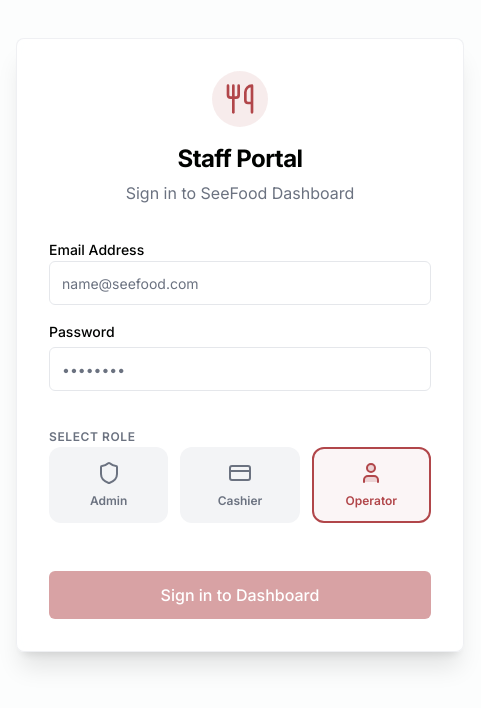
Scenario: LoginPage (staff) › displays an error message when server responds with a failure
The width and height of the screenshot is (481, 708).
Step 1. Click the text "Admin" → [109, 501], box [90,493,127,509]
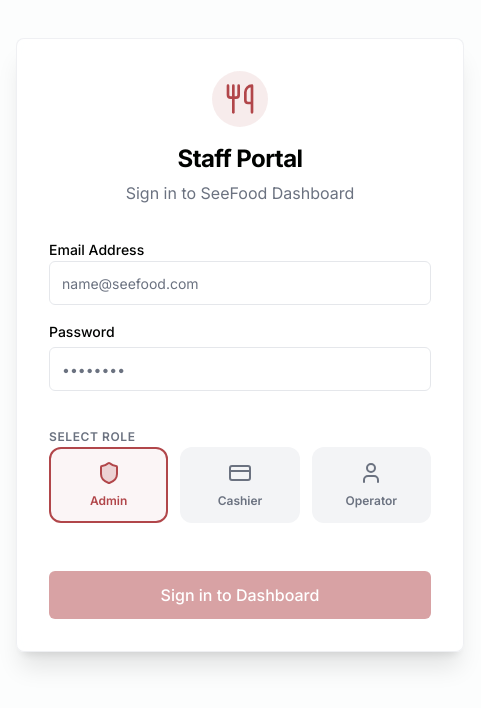
Step 2. Type "admin@example.com" into the field labelled "Email Address" → [240, 283], box [49,261,431,305]
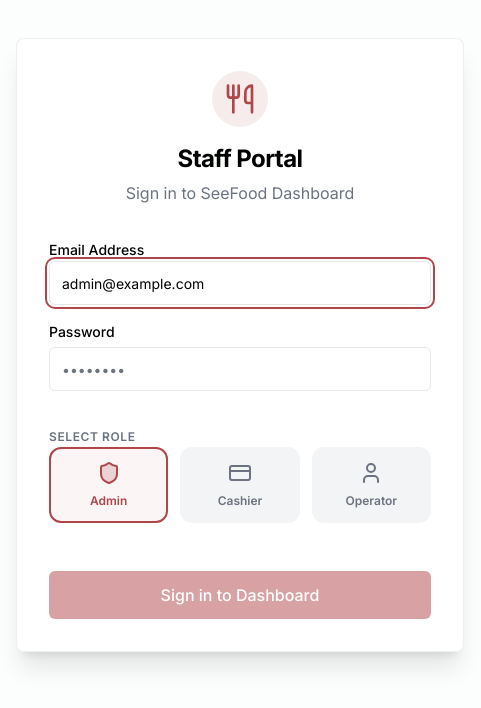
Step 3. Type "password" into the password field labelled "Password" → [240, 369], box [49,347,431,391]
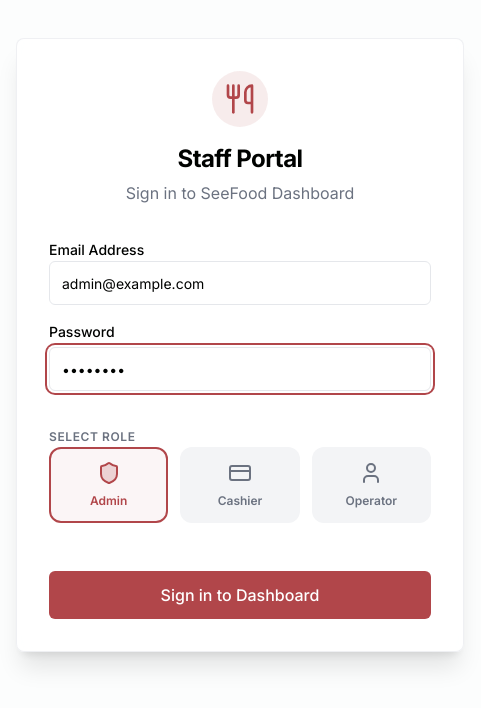
Step 4. Click the button "Sign in to Dashboard" → [240, 595], box [49,571,431,619]
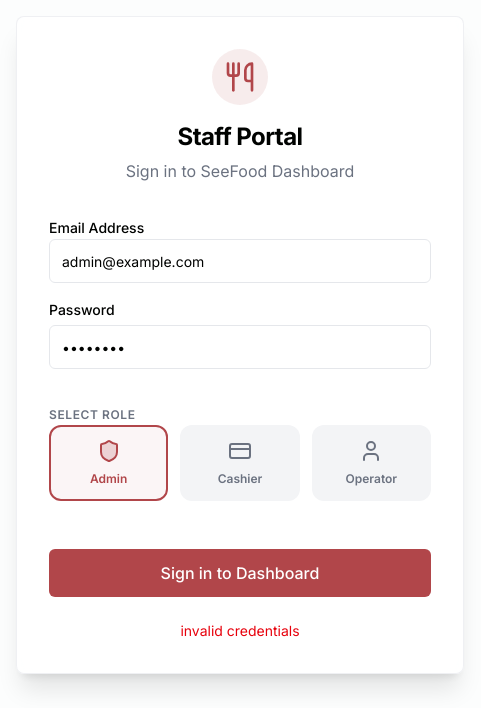
Result: the text "invalid credentials" is shown at [180,622,300,639]
